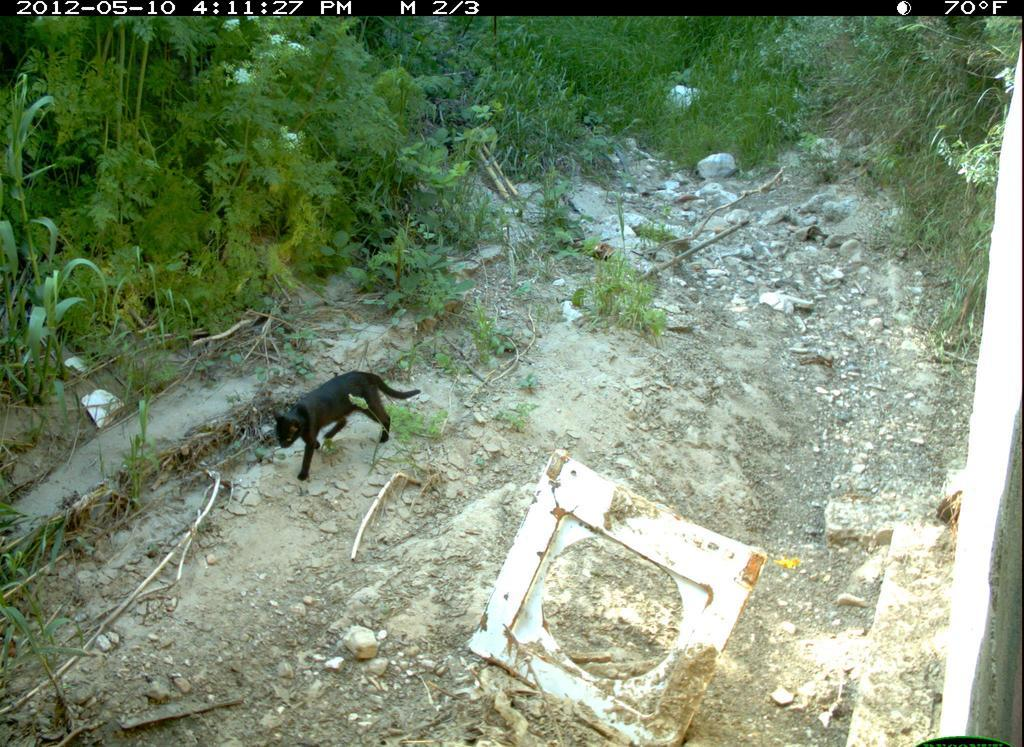cat: (267, 365, 424, 488)
